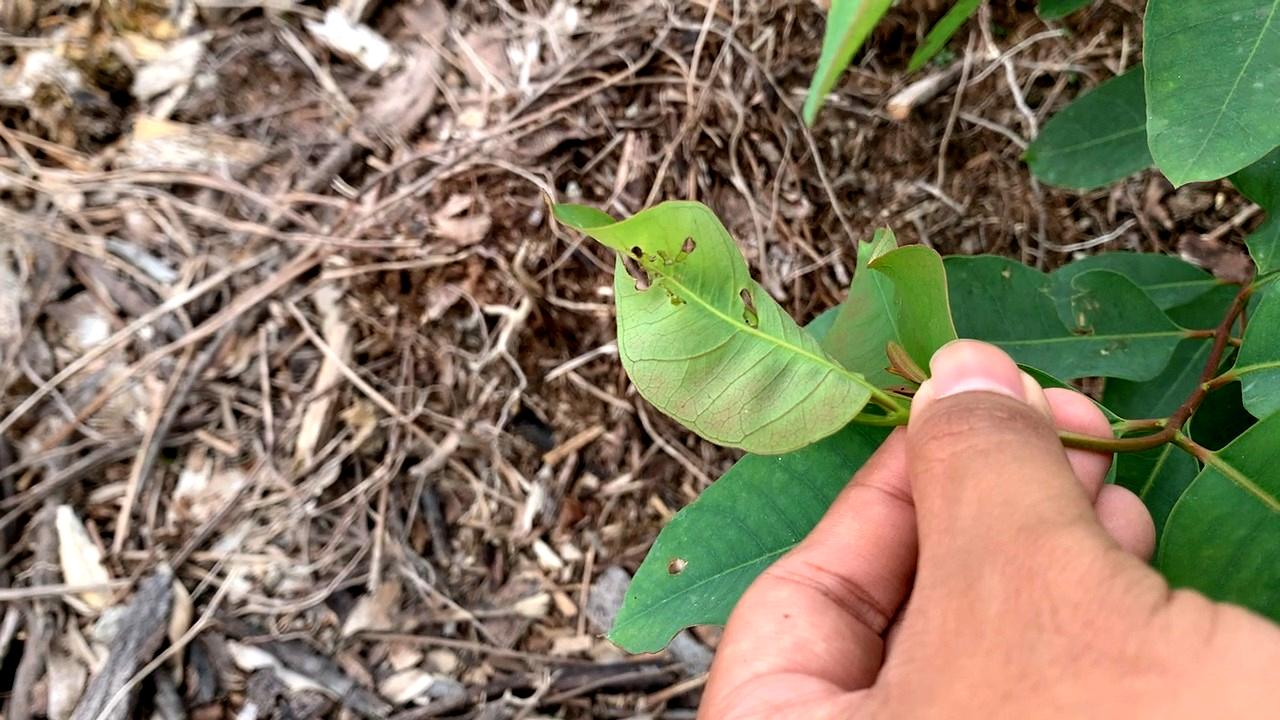Leaf Roller - Leaf: (555, 200, 870, 449)
